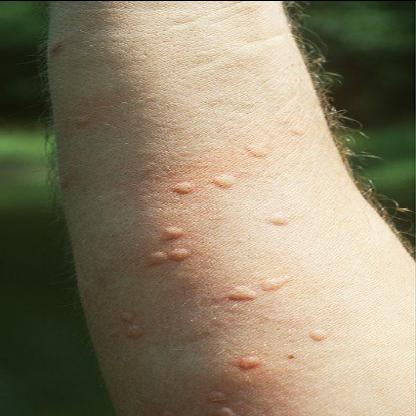Fire ant: (226, 274, 292, 306), (146, 226, 194, 266), (204, 390, 242, 415), (119, 312, 149, 340), (210, 172, 240, 190), (244, 141, 274, 159), (265, 211, 293, 227), (238, 354, 264, 370), (171, 179, 197, 195), (69, 112, 95, 128), (308, 327, 330, 341), (60, 173, 76, 189), (291, 126, 311, 138), (155, 408, 180, 415)
